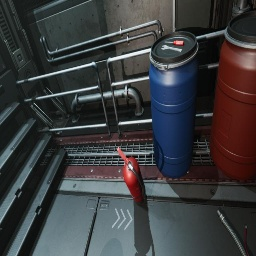FireExtinguisher ]: (117, 147, 147, 205)
